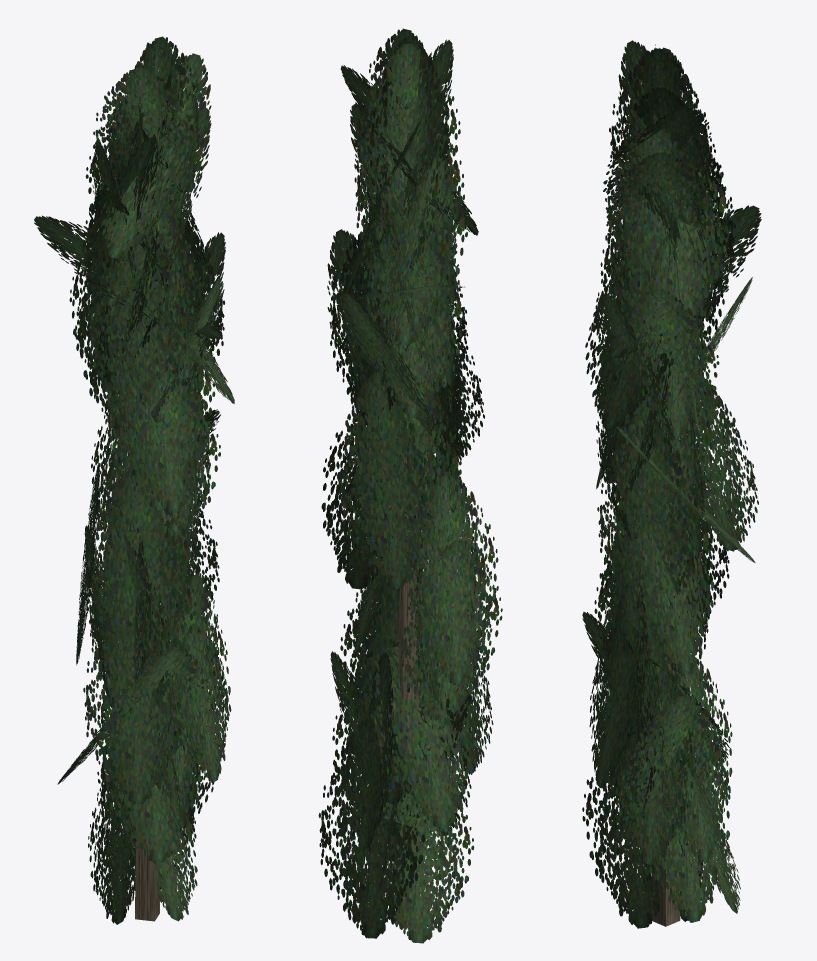
File: Tree_Cypress_1_LOD2.gltf
3 views of the same model, side by side, from view 1: azimuth 30°, elevation 25°; view 2: azimuth 150°, elevation 25°; view 3: azimuth 270°, elevation 25° (orthographic).
Parts seen in each view (by area): view 1: Tree_Cypress_1_LOD2; view 2: Tree_Cypress_1_LOD2; view 3: Tree_Cypress_1_LOD2.
Part boxes in pixels (x1,y1,x2,y2): Tree_Cypress_1_LOD2: (34,36,234,924); Tree_Cypress_1_LOD2: (318,28,502,943); Tree_Cypress_1_LOD2: (582,40,761,928).
Bounding box in the file's own units: 4.92 × 20.08 × 5.17.
2 materials, 2 textured.
